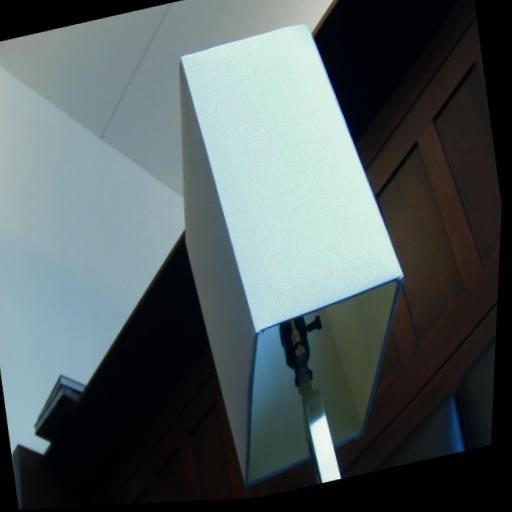lamp: (141, 3, 446, 503)
